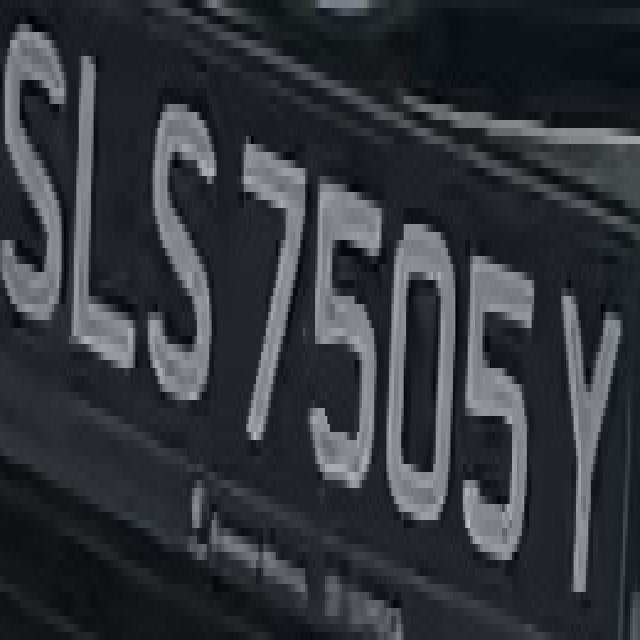0: (384, 208, 455, 528)
5: (458, 200, 532, 608), (313, 128, 387, 528)
7: (232, 128, 310, 480)
L: (59, 40, 138, 432)
S: (150, 40, 219, 432), (2, 16, 66, 376)
Y: (559, 232, 615, 624)
